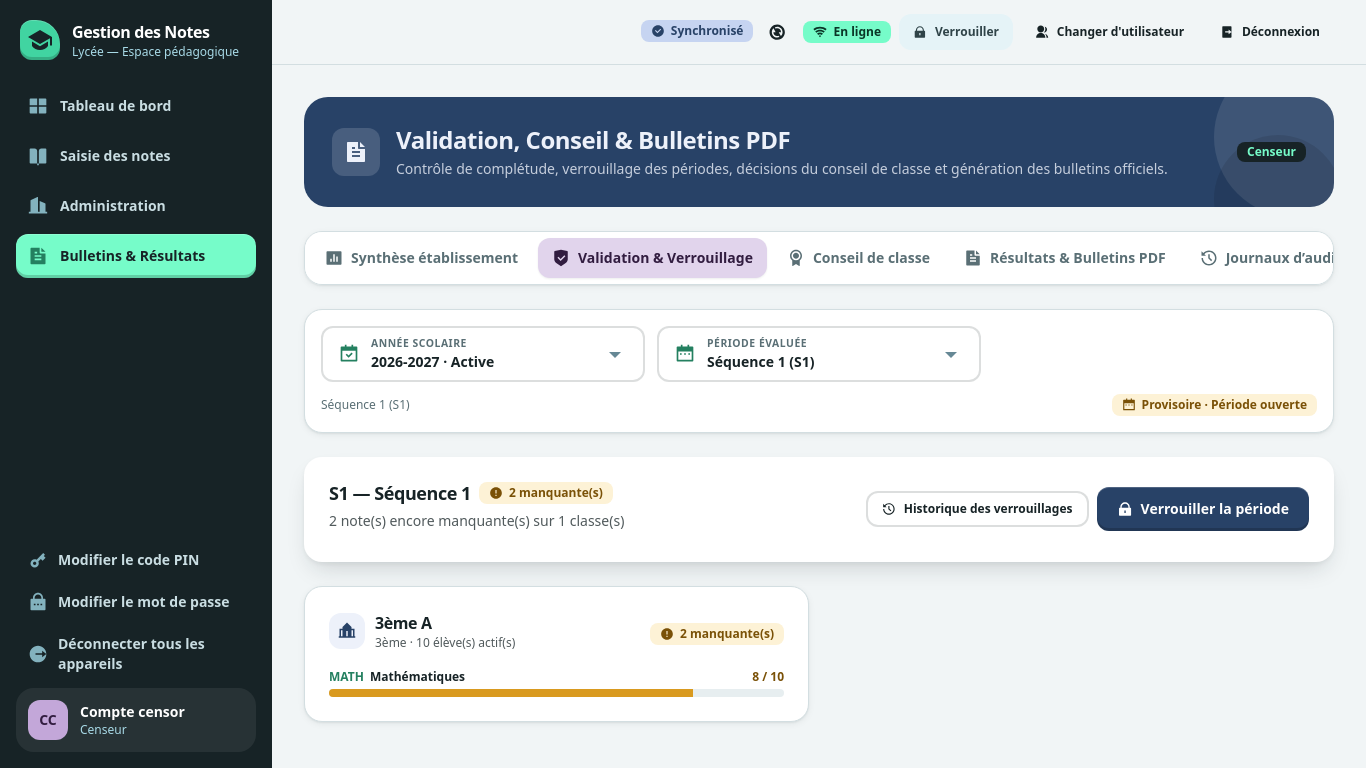
Scenario: /reports RBAC & Validation Lock/Unlock lifecycle › allows censor to lock S1 (hiding unlock) and allows principal to unlock with mandatory reason
The width and height of the screenshot is (1366, 768).
Later steps or results of the test are not shown.
Expected: the text "8 / 10" is shown, [752,668,784,684]
Click the button "Verrouiller la période".
click(1203, 509)  # box [1096,487,1309,531]
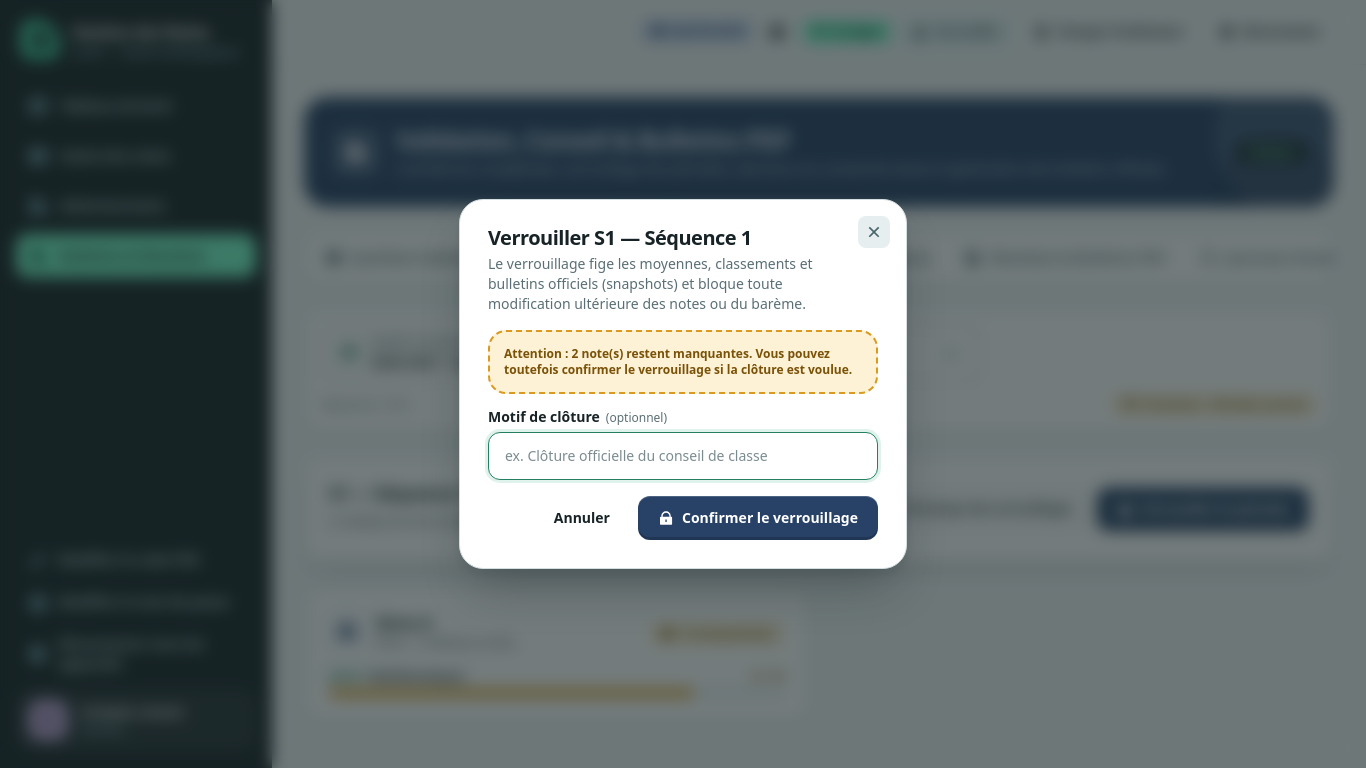
Now the text "2 note(s) restent manquantes" is shown, box [504,345,852,378]
